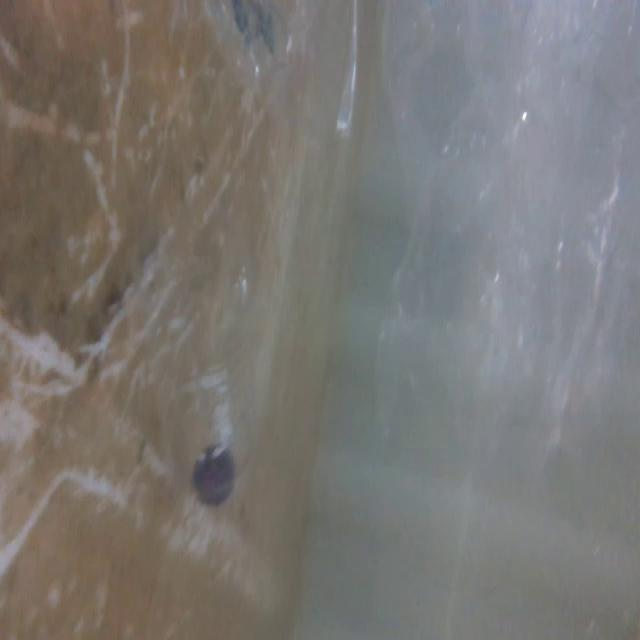plastic bags: (381, 0, 640, 517), (151, 0, 374, 150)
plastic bottle: (117, 147, 269, 524)
